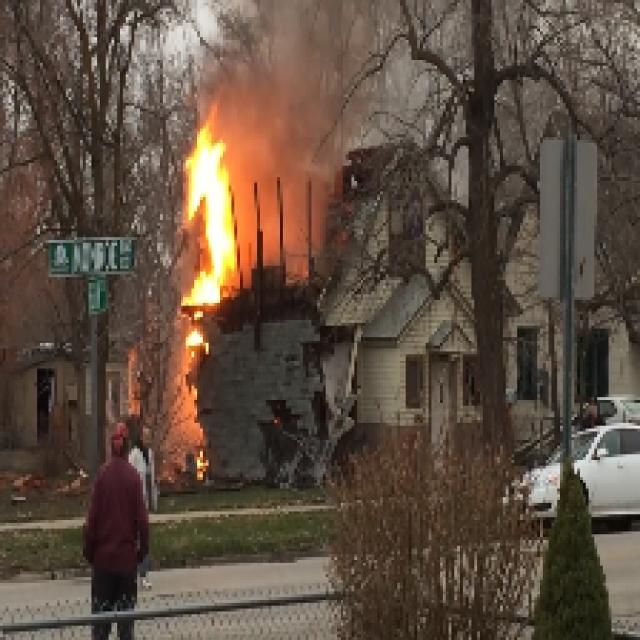fire: (167, 133, 246, 301)
smoke: (255, 50, 332, 264)
